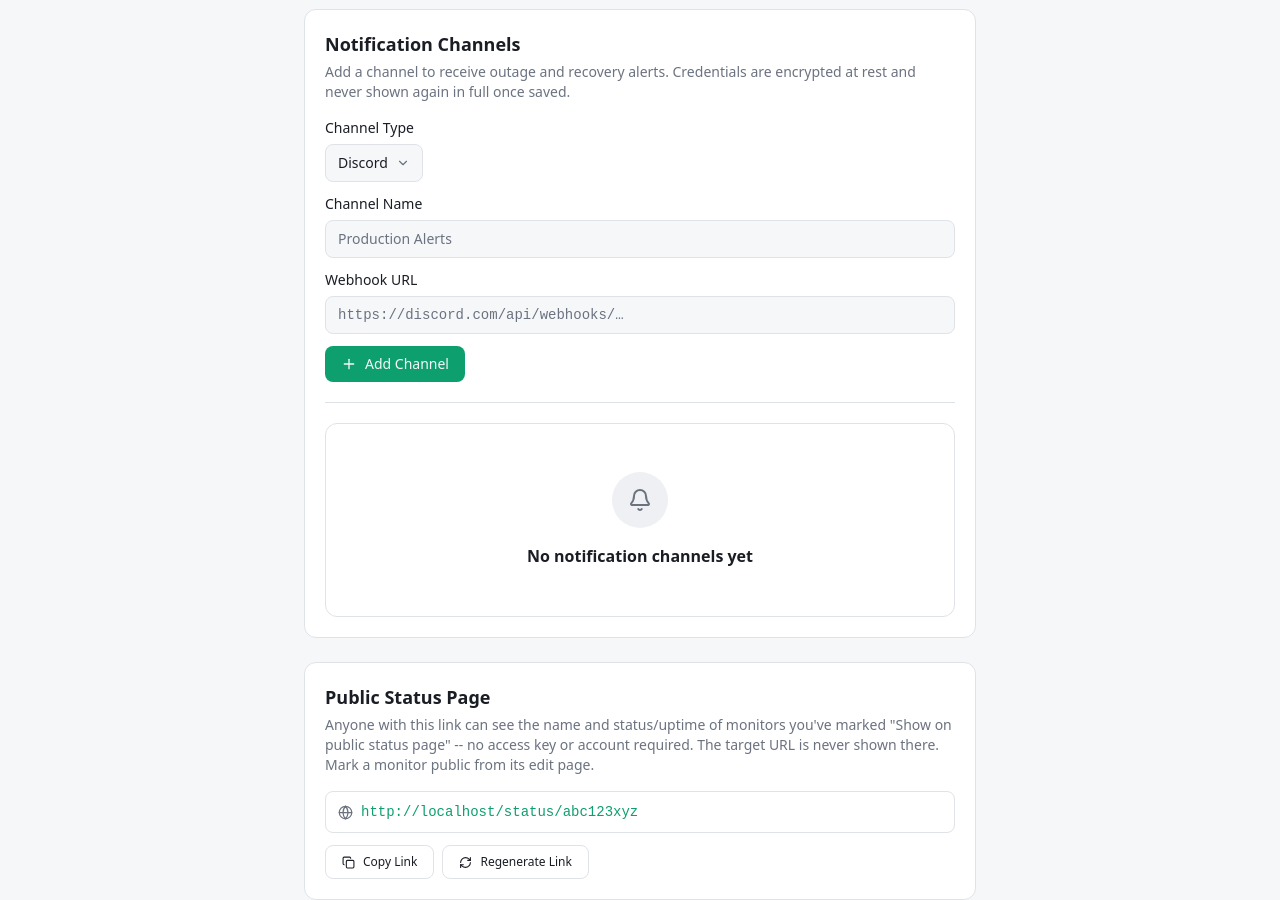
Settings › regenerates the status page link after confirming
This screenshot has width=1280, height=900.
(page scrolled)
Expected: the link "http://localhost/status/abc123xyz" is shown, [361,802,638,822]
Click the button "Regenerate Link". click: coordinates (516, 862)
box: [442,845,589,879]
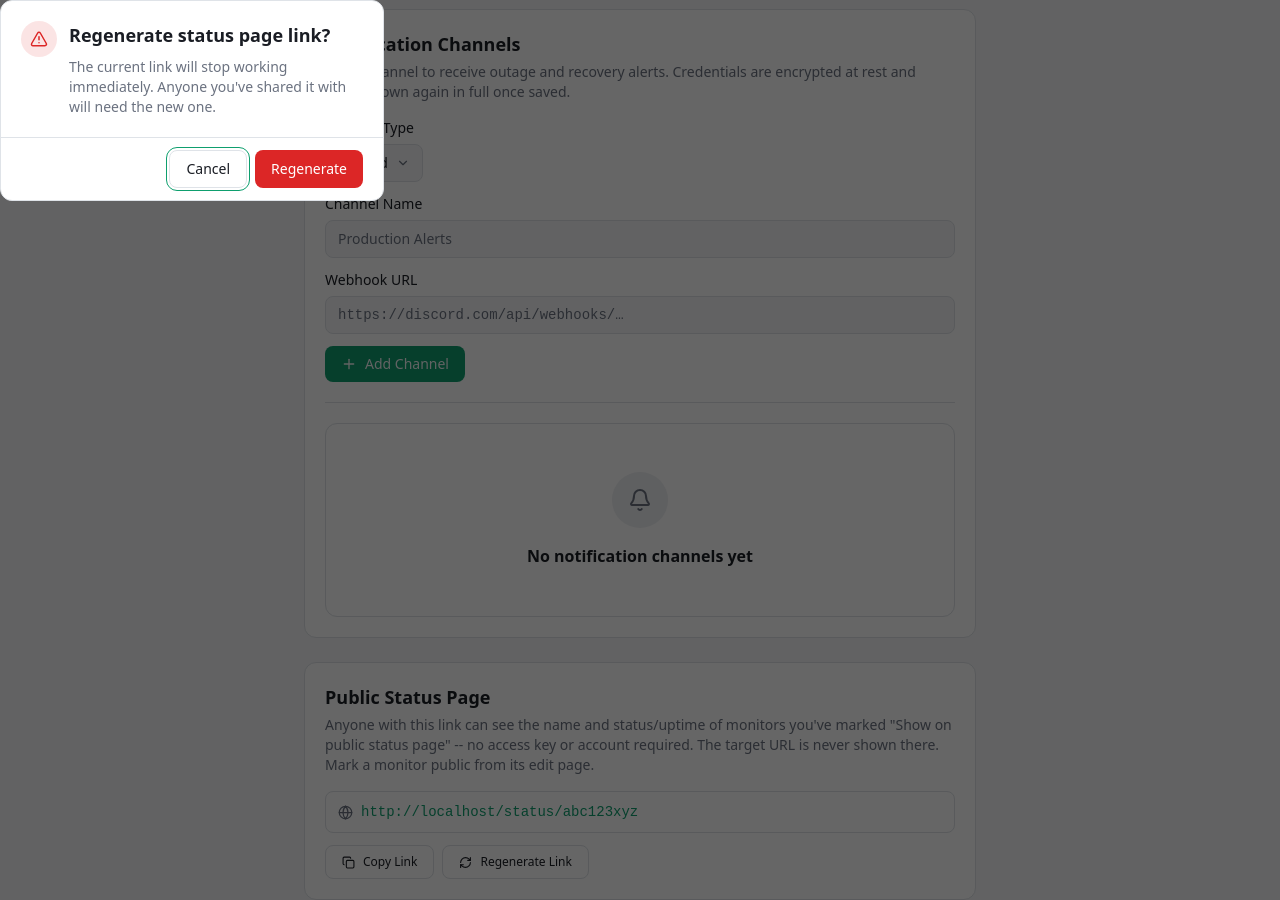
Click the button "Regenerate". click: coordinates (309, 169)
box: [255,150,363,188]
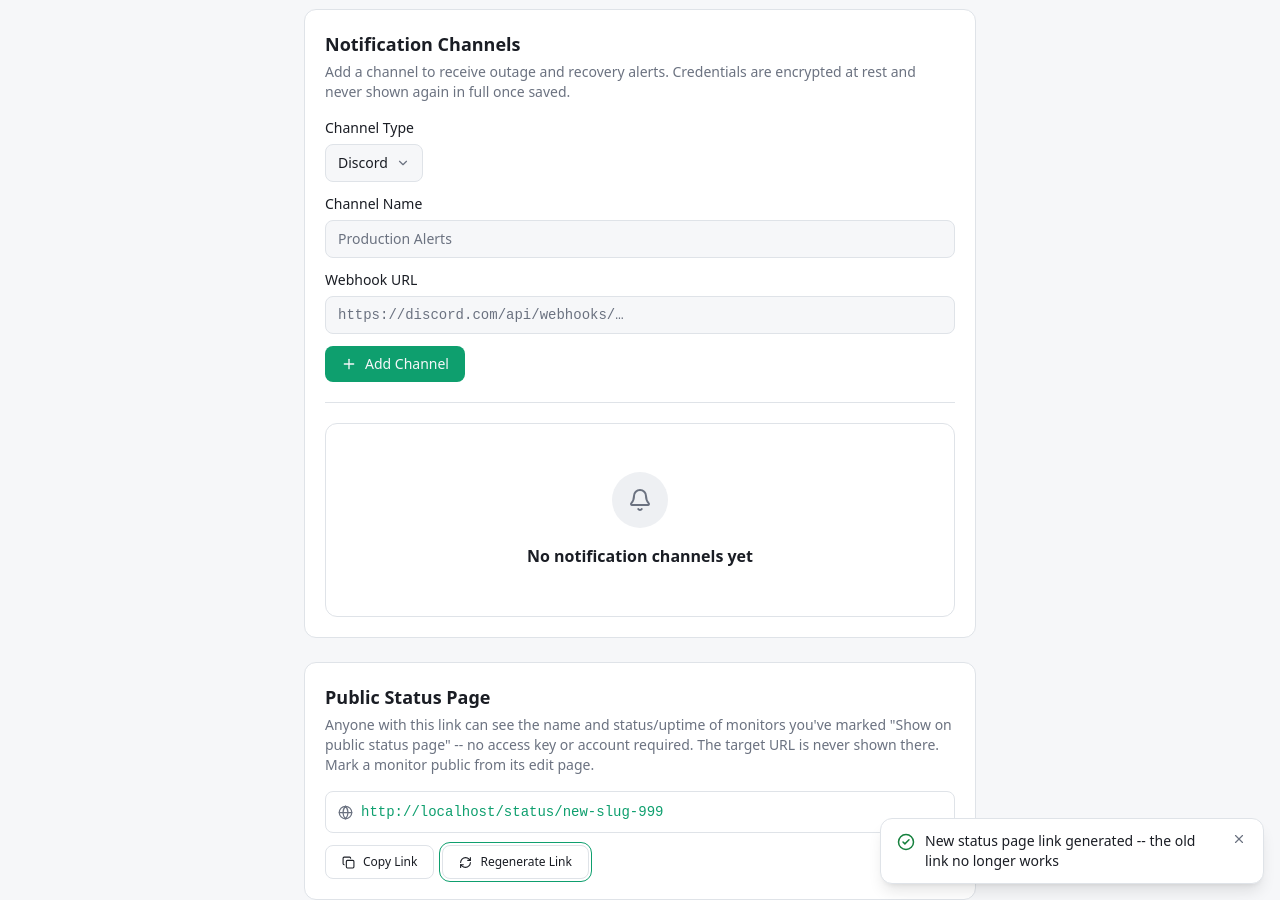
Result: the link "http://localhost/status/new-slug-999" is shown at [361,802,664,822]
